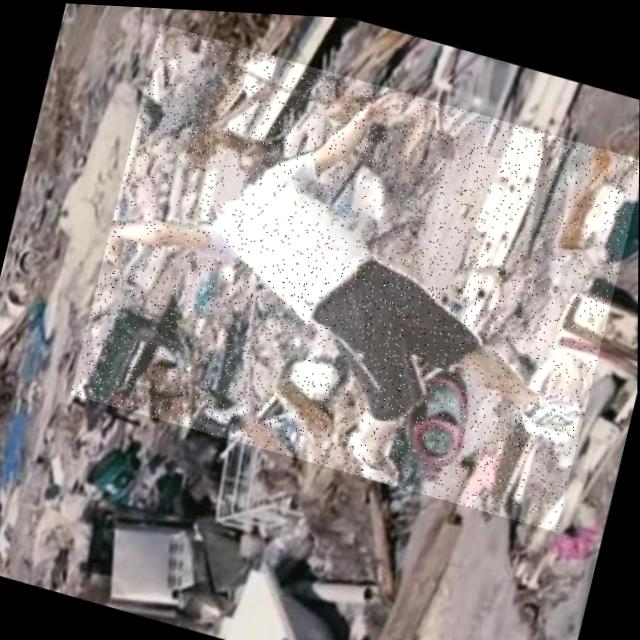Person in Rubble: (70, 17, 640, 527)
